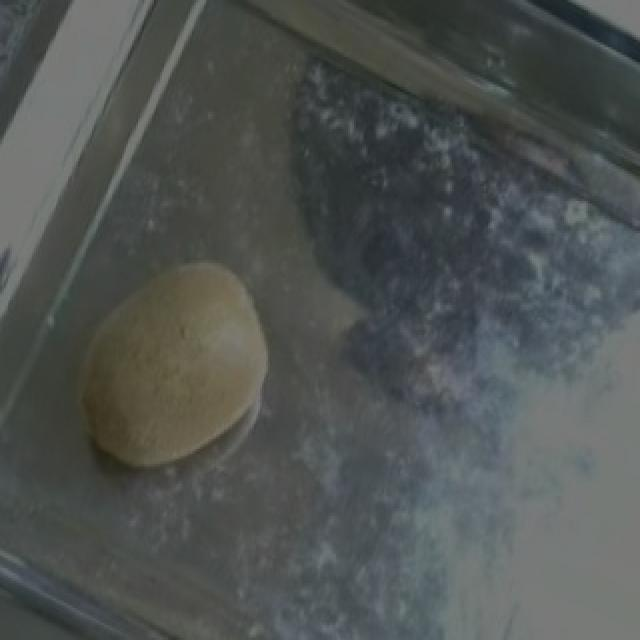Fruit: (20, 218, 308, 506)
